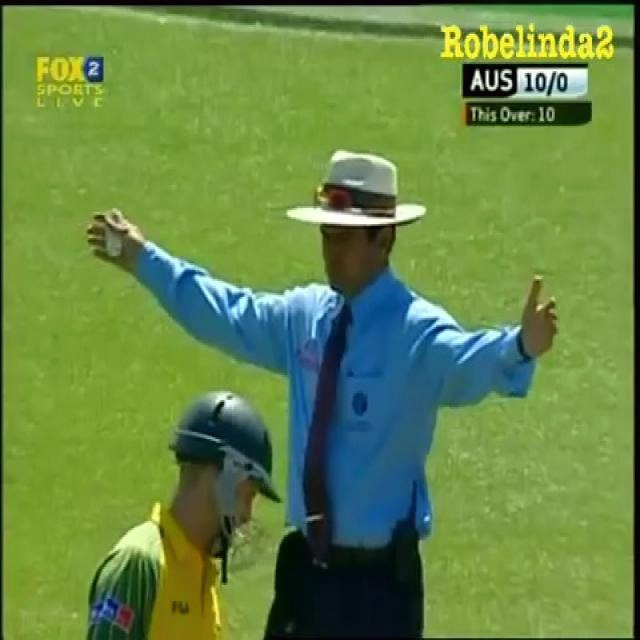Wide: (79, 144, 564, 640)
